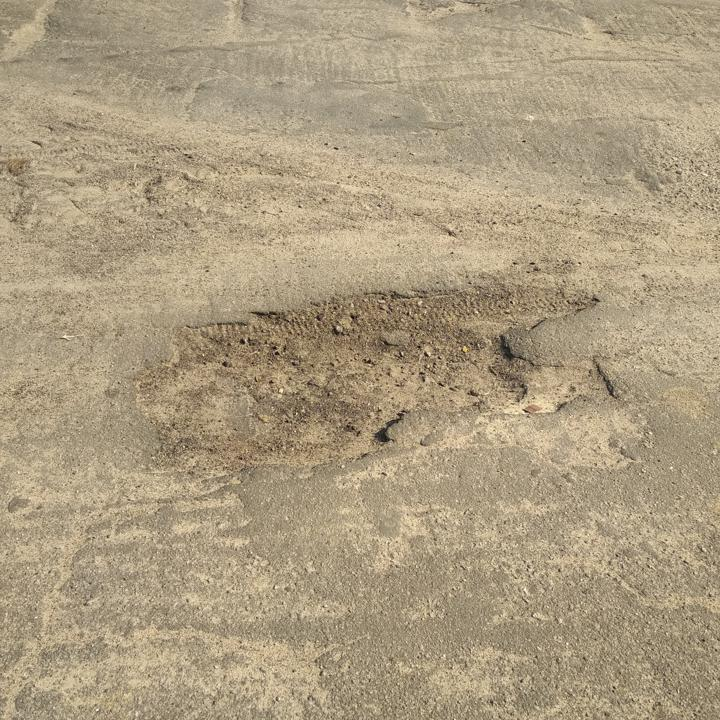pothole: (129, 274, 619, 481)
